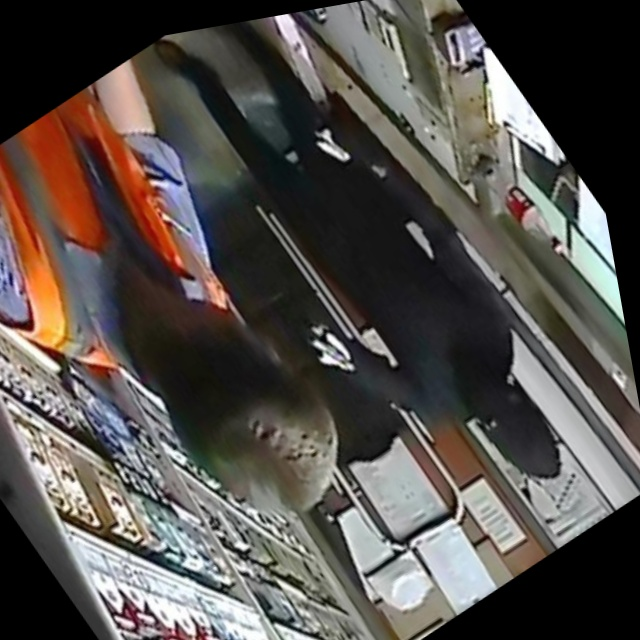gun: (277, 283, 380, 407)
